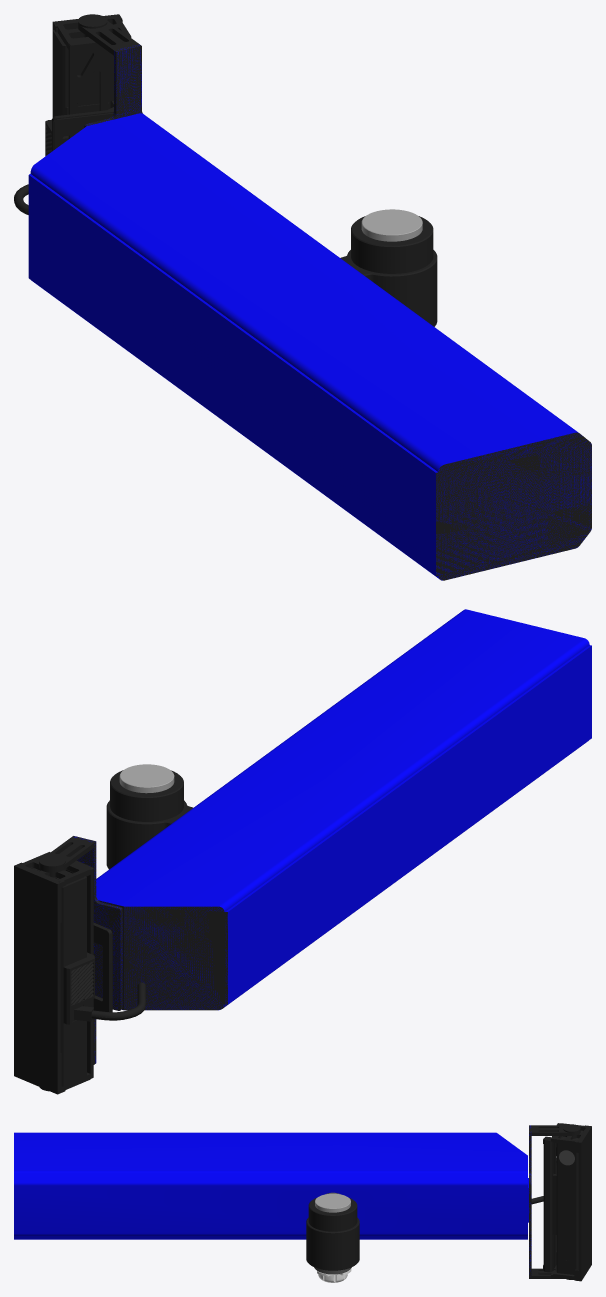
The model's file is torso.dae.
3 views of the same model, one above another, from view 1: azimuth 30°, elevation 25°; view 2: azimuth 150°, elevation 25°; view 3: azimuth 270°, elevation 25° (orthographic). The views are drawn at different scales.
Parts seen in each view (by area): view 1: SketchUp (×6), 组_10 (×2), 组_9, 组_3, 组_7; view 2: SketchUp (×6), 组_6, 组_10 (×4), 组_3, 组_9, 组_7; view 3: SketchUp (×5), 组_10 (×2), 组_6, 组_3, 组_7, 组_9, 组_13.
Part boxes in pixels (left/top/right/bottom): SketchUp (×6): left=28, top=44, right=591, bottom=580; 组_10 (×2): left=45, top=30, right=113, bottom=155; 组_9: left=68, top=41, right=107, bottom=138; 组_3: left=78, top=14, right=138, bottom=55; 组_7: left=56, top=16, right=131, bottom=49; SketchUp (×6): left=71, top=609, right=591, bottom=1064; 组_6: left=14, top=862, right=65, bottom=1094; 组_10 (×4): left=30, top=867, right=145, bottom=1086; 组_3: left=39, top=837, right=93, bottom=872; 组_9: left=74, top=860, right=93, bottom=1078; 组_7: left=19, top=852, right=90, bottom=884; SketchUp (×5): left=14, top=1125, right=531, bottom=1278; 组_10 (×2): left=543, top=1130, right=583, bottom=1274; 组_6: left=574, top=1125, right=591, bottom=1281; 组_3: left=531, top=1124, right=580, bottom=1135; 组_7: left=551, top=1123, right=588, bottom=1144; 组_9: left=552, top=1123, right=560, bottom=1270; 组_13: left=317, top=1269, right=351, bottom=1282.
Size of the model in its own units: 12.28 by 39.2 by 11.1.
